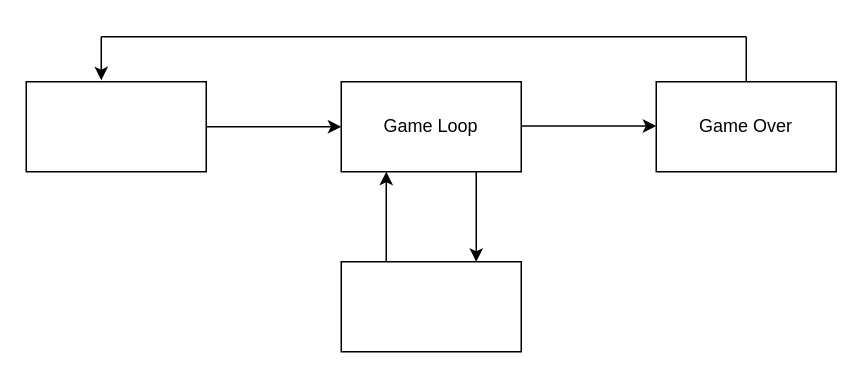
This 863x378 diagram has some shape labels left out. The box of each missing label's shape, as (x1, y1, x2, y2) in pixels:
Iniciar: (25, 80, 206, 172)
Pause: (340, 260, 521, 352)
